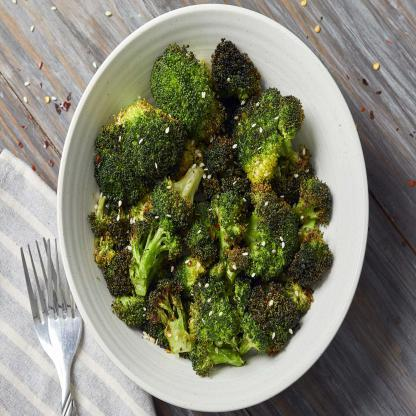broccoli: (89, 38, 336, 378)
